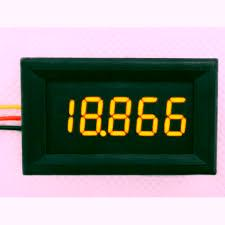.: (100, 131, 106, 137)
1: (66, 98, 76, 134)
6: (164, 97, 186, 137), (137, 96, 158, 137)
8: (108, 97, 132, 137), (79, 96, 102, 136)
